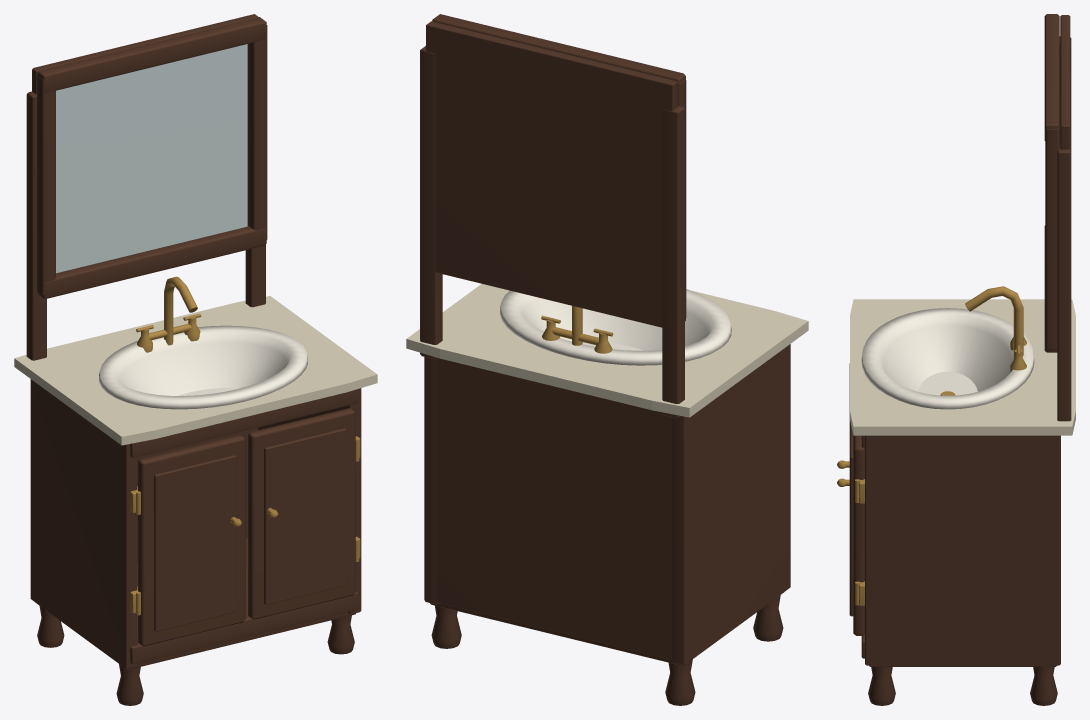
File: rpg-mansion-single-basin-mirrored-cabinet-01.glb
The picture shows the model from 3 angles, left to right: view 1: azimuth 30°, elevation 25°; view 2: azimuth 150°, elevation 25°; view 3: azimuth 270°, elevation 25°; orthographic projection. The views are drawn at different scales.
Parts seen in each view (by area): view 1: rpg-mansion-single-basin-mirrored-cabinet-01; view 2: rpg-mansion-single-basin-mirrored-cabinet-01; view 3: rpg-mansion-single-basin-mirrored-cabinet-01.
Part boxes in pixels (x1,y1,x2,y2): rpg-mansion-single-basin-mirrored-cabinet-01: (14, 14, 377, 705); rpg-mansion-single-basin-mirrored-cabinet-01: (406, 14, 808, 705); rpg-mansion-single-basin-mirrored-cabinet-01: (837, 14, 1075, 705).
Bounding box in the file's own units: 0.8 × 1.7 × 0.6343.
